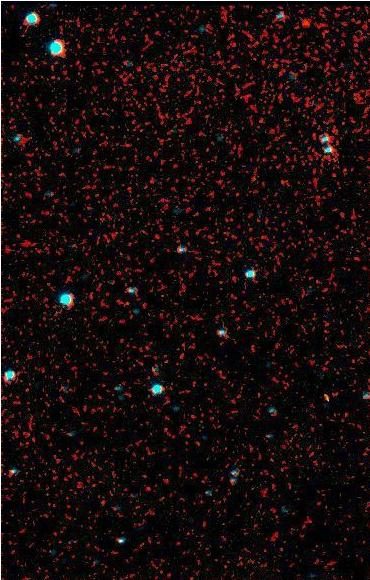star: (290, 8, 320, 38)
